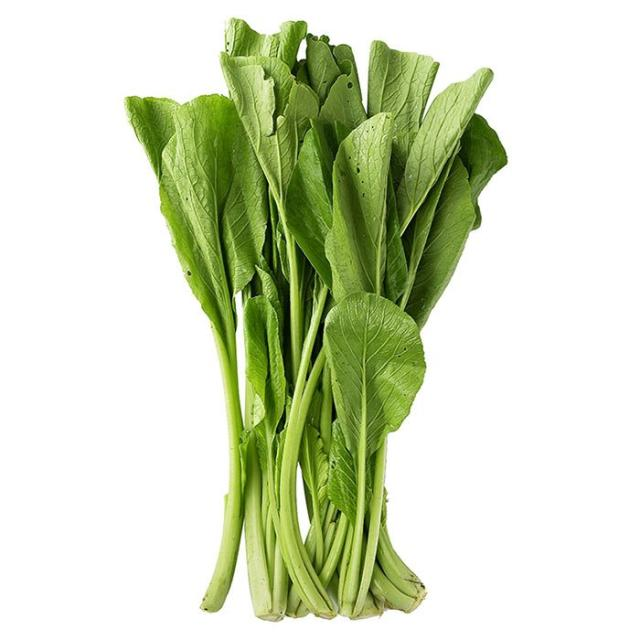bokchoy: (111, 18, 513, 640)
